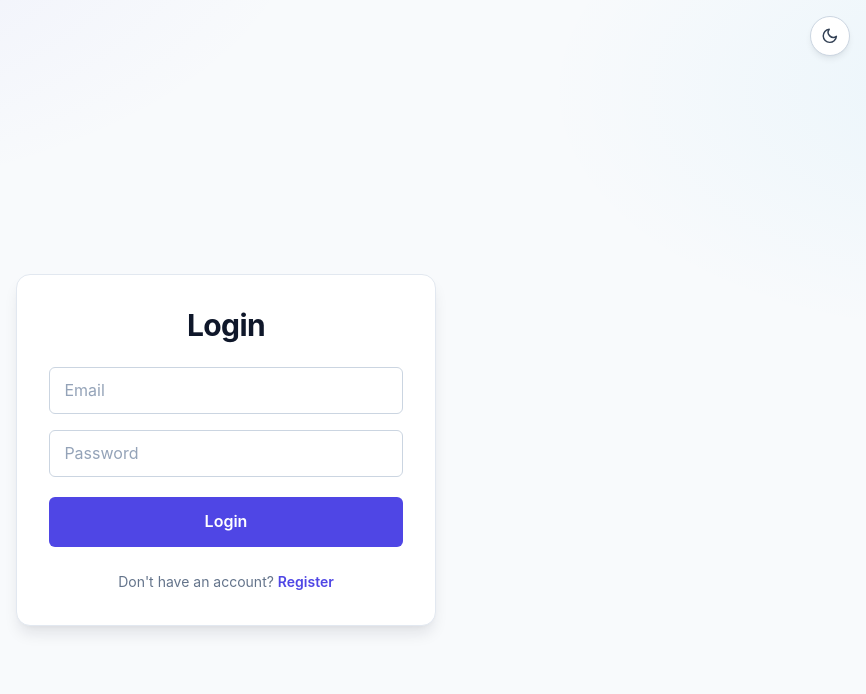
Login page › displays an error message when login fails
Type "wrong@example.com" into the field with placeholder "Email". click: [226, 390]
box: [49,367,403,414]
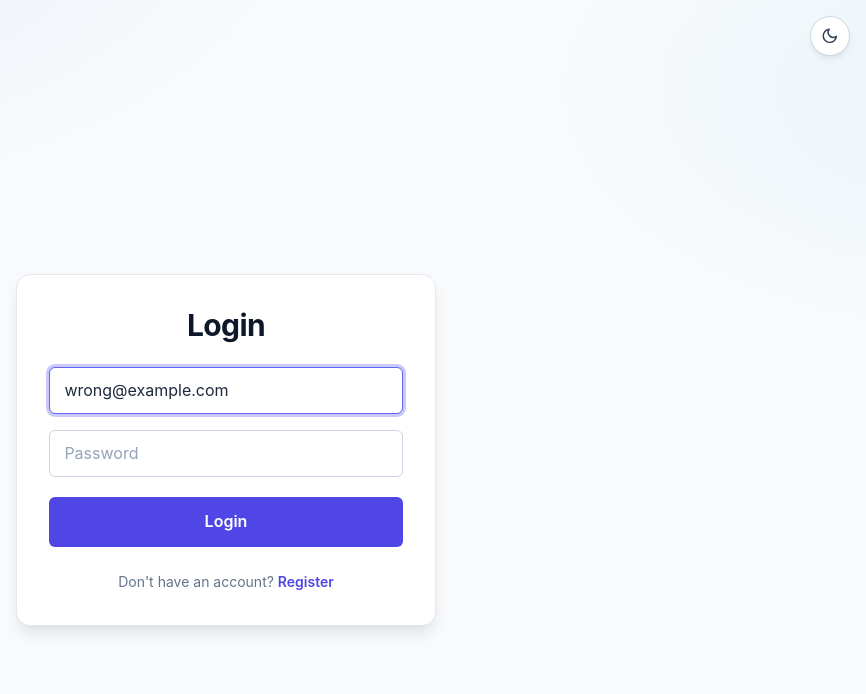
Type "badpassword" into the password field with placeholder "Password". click: [226, 453]
box: [49,430,403,477]
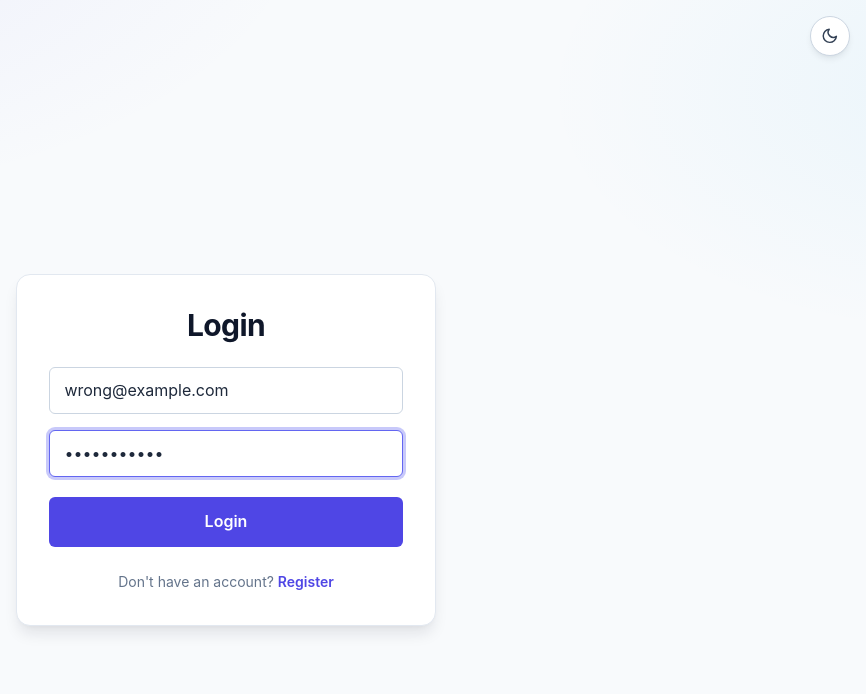
Click the button "Login". click: [226, 522]
box: [49,497,403,547]
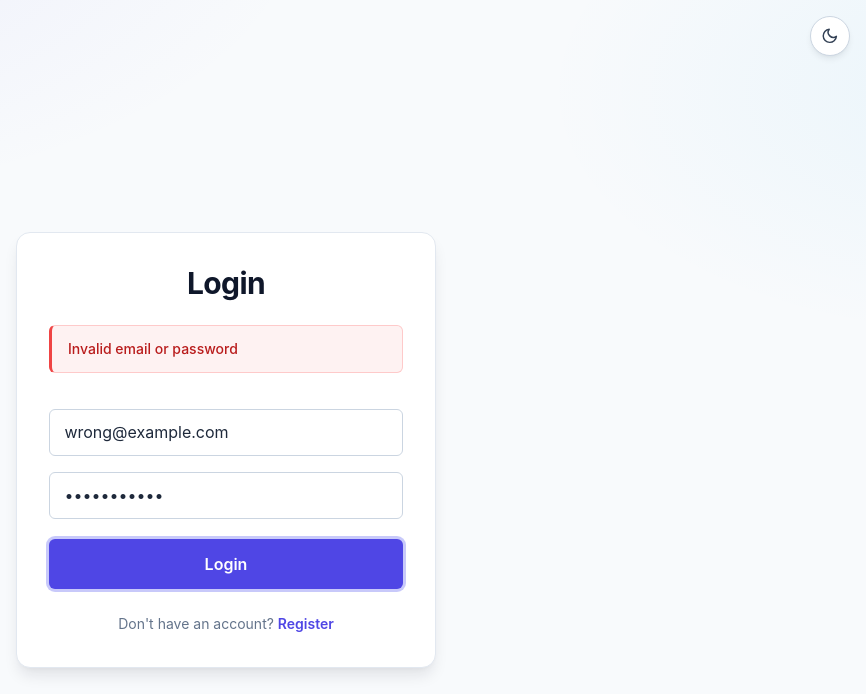
Expected: the text "Invalid email or password" is shown, [49,325,403,373]
